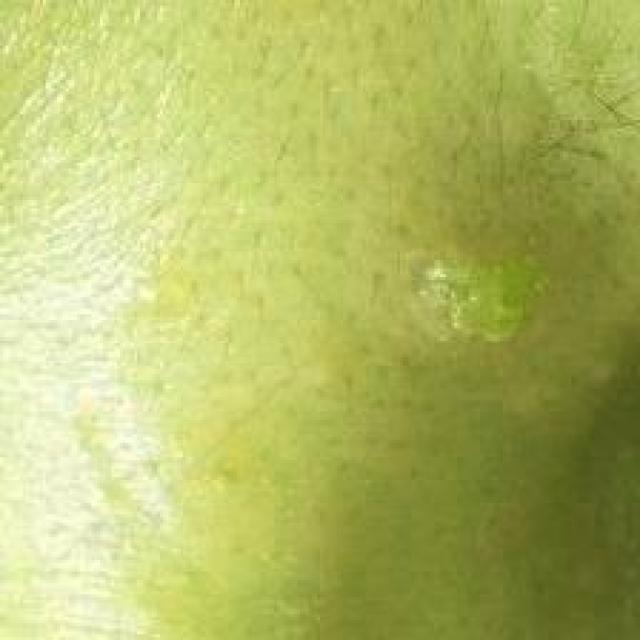others: (55, 54, 634, 640)
